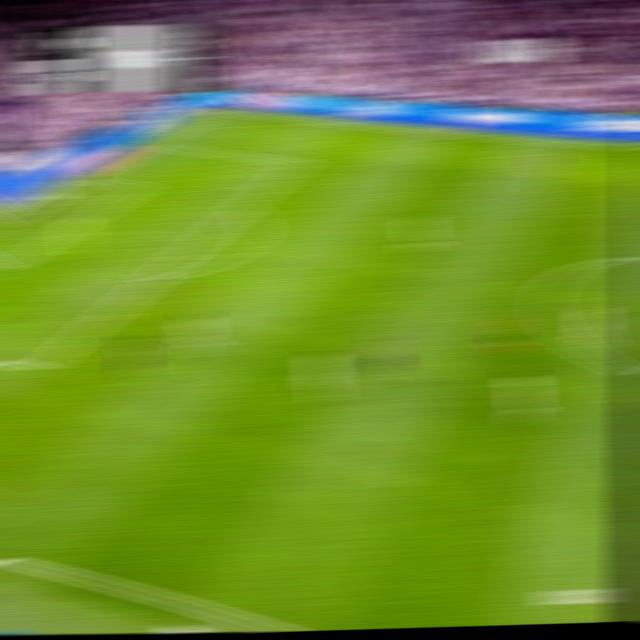bigarea_bottom_inner: (25, 354, 53, 380)
bigarea_top_inner: (285, 153, 310, 171)
bigarea_top_outter: (140, 135, 165, 150)
bottom_arc_area_intersection: (141, 263, 170, 288)
corner: (202, 104, 227, 115)
smallarea_bottom_inner: (0, 256, 17, 276)
smallarea_top_inner: (127, 179, 150, 193)
top_arc_area_intersection: (229, 197, 255, 216)
